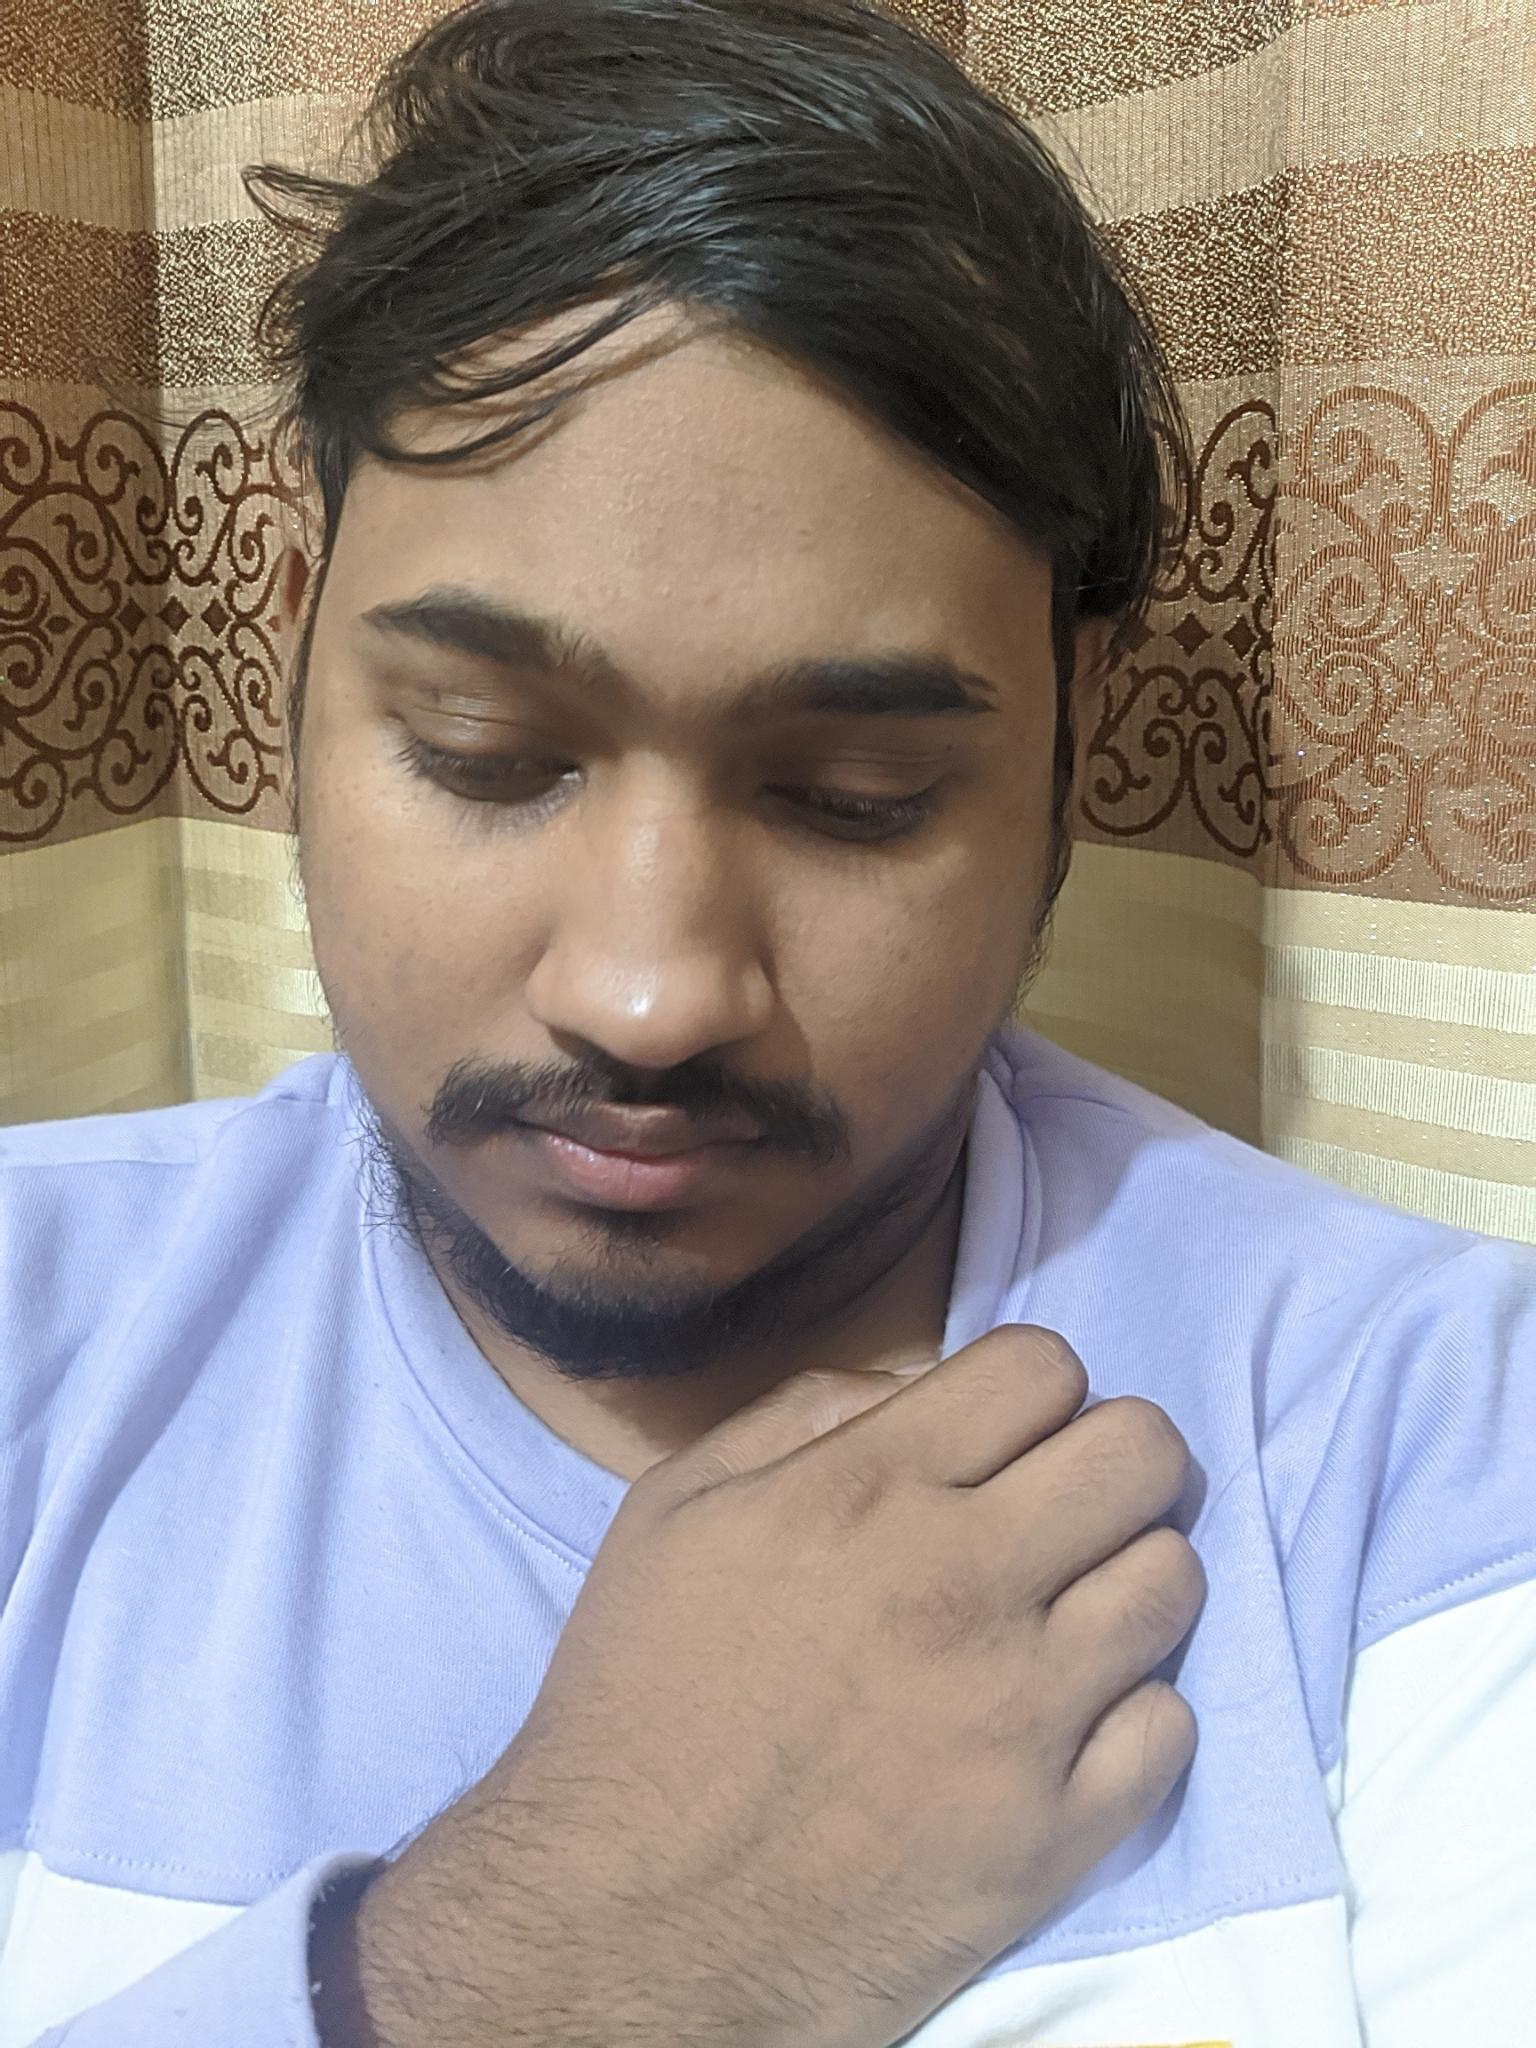Neutral: (298, 493, 1041, 1355)
